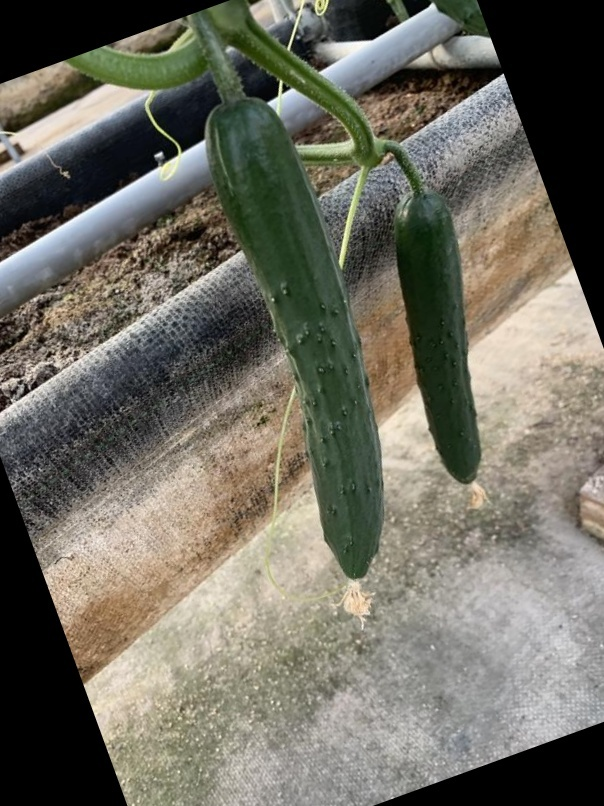mature: (200, 87, 392, 609), (392, 186, 488, 489)
